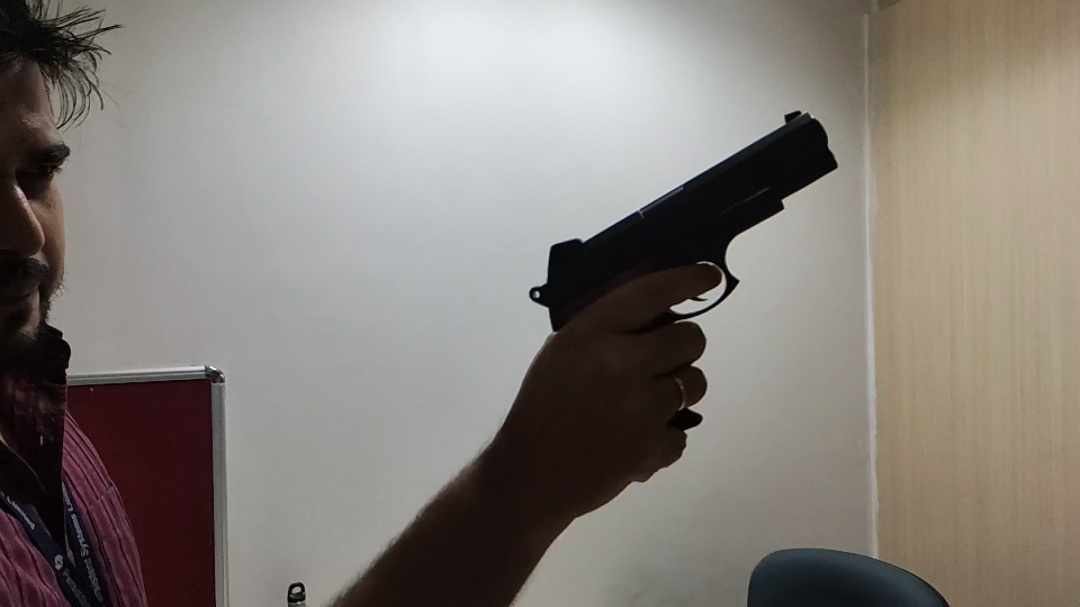gun: (530, 108, 844, 432)
